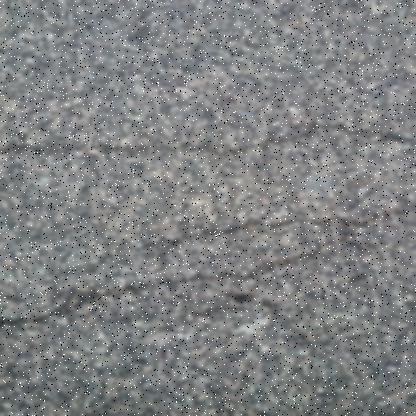Cracks: (0, 237, 367, 331), (0, 119, 416, 162), (156, 205, 416, 249)
